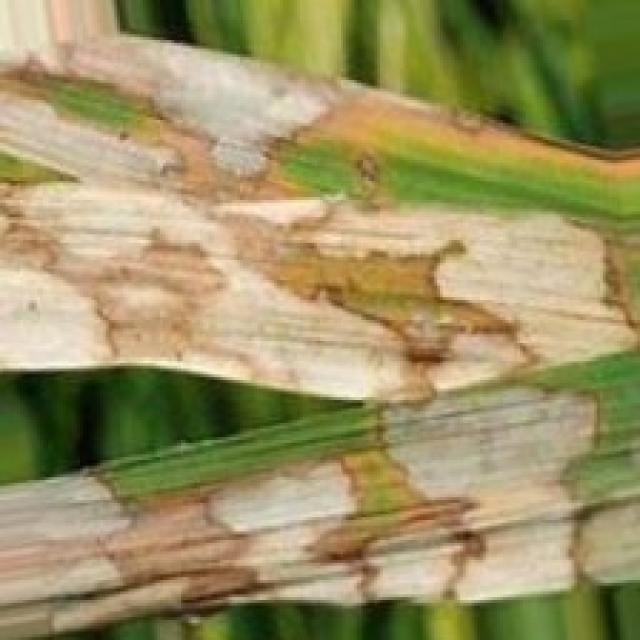Bacterial_Blight: (204, 190, 640, 382), (229, 183, 640, 354), (354, 400, 640, 601), (0, 0, 328, 165), (3, 181, 213, 365), (0, 460, 199, 619), (198, 448, 368, 603), (0, 262, 131, 377), (343, 510, 468, 606)
